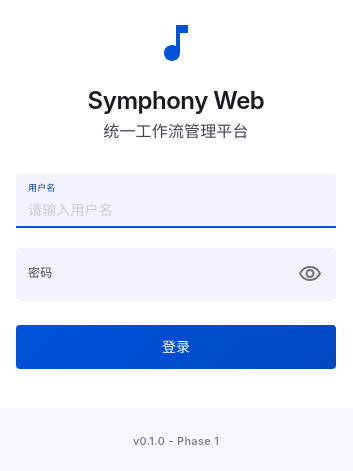
Test: Login › shows username error when only password is filled
Type "somepass" into the password field labelled "密码" at point(150, 274), box [16,248,285,301]
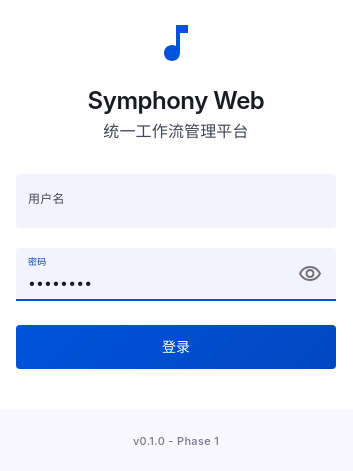
Click the button "登录" at point(176, 347), box [16,325,336,369]
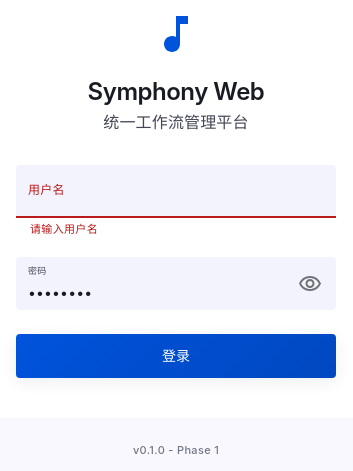
Expected: the text "请输入用户名" is shown, [30,222,98,236]
